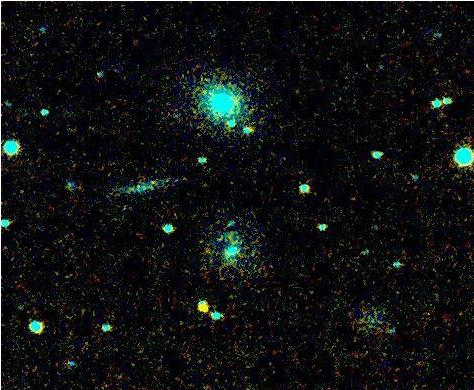star: (186, 292, 216, 322)
